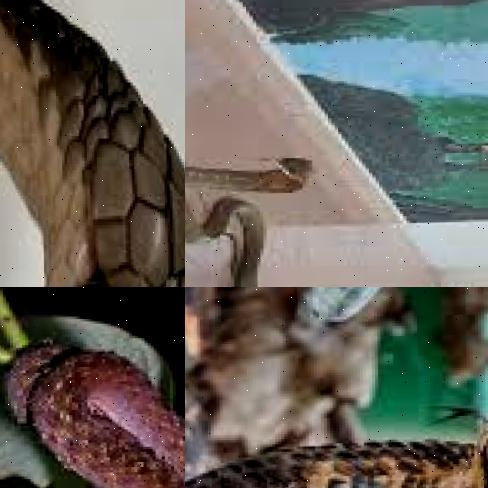snake: (185, 287, 488, 488), (0, 0, 185, 287), (3, 326, 185, 488), (185, 162, 323, 287)
